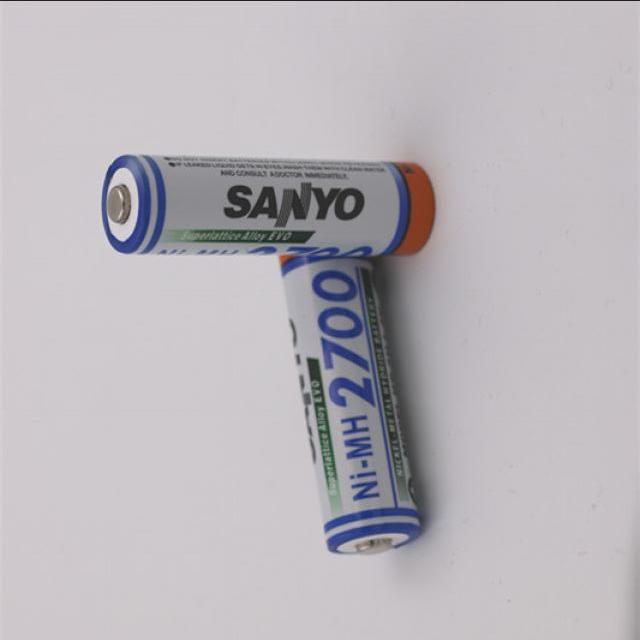AA: (272, 246, 426, 562), (98, 146, 440, 254)
